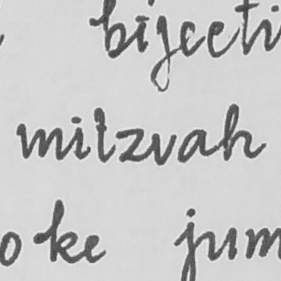a: (177, 127, 211, 164)
h: (220, 101, 256, 163)
i: (67, 114, 90, 162)
m: (15, 120, 65, 162)
t: (91, 103, 113, 166)
v: (149, 130, 176, 167)
z: (114, 126, 147, 165)
